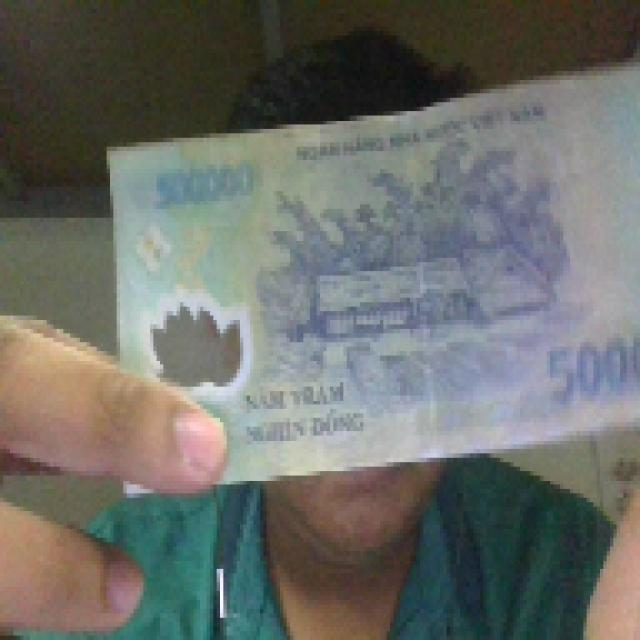500 000 VND: (100, 40, 637, 493)
